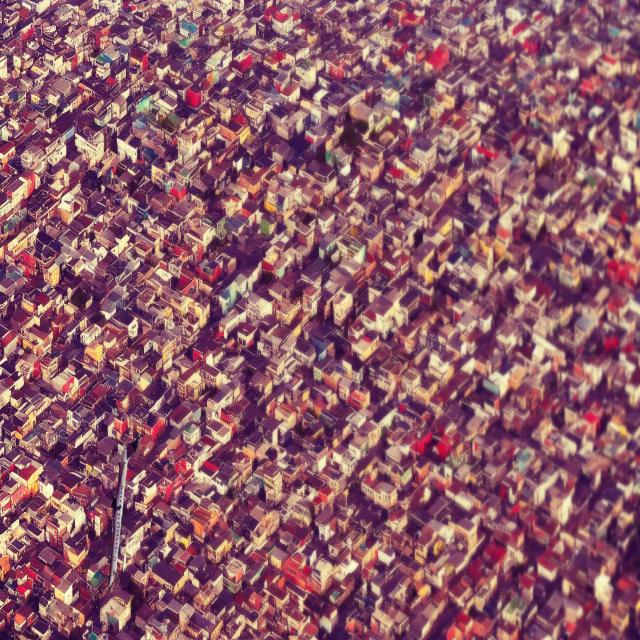airplane: (107, 441, 130, 589)
